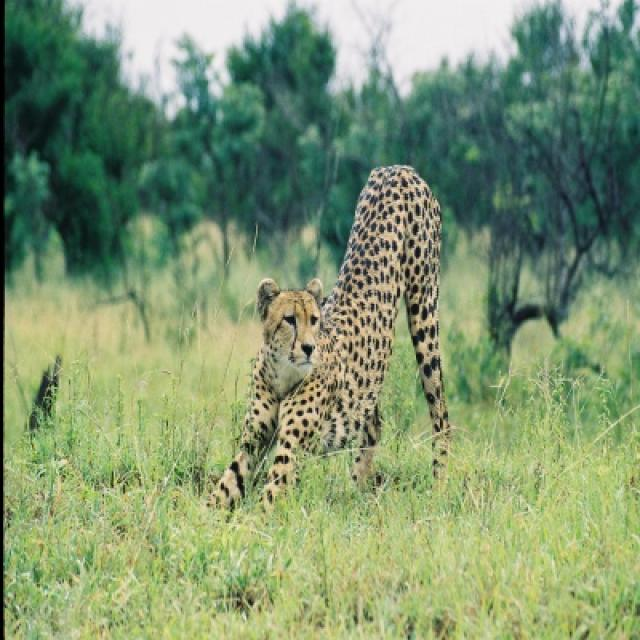Cheetah: (208, 167, 453, 505)
